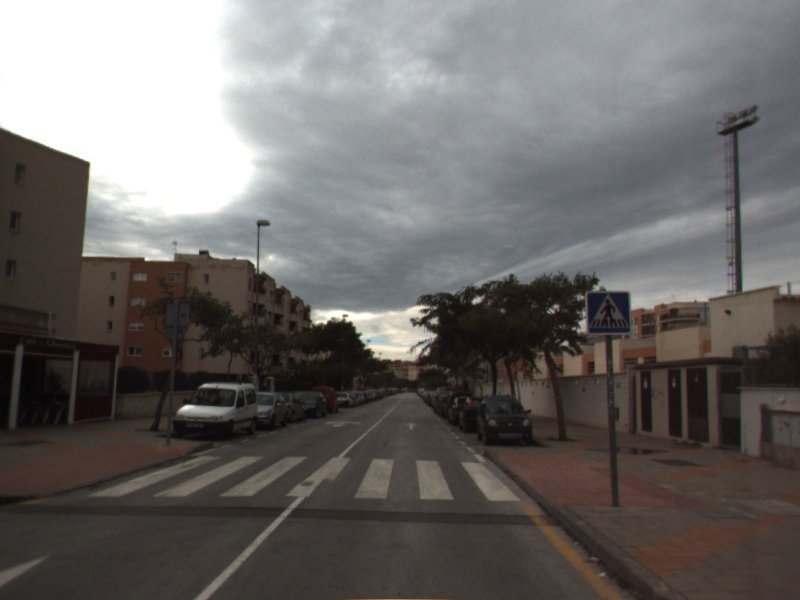STRAIGHT: (401, 421, 421, 431)
